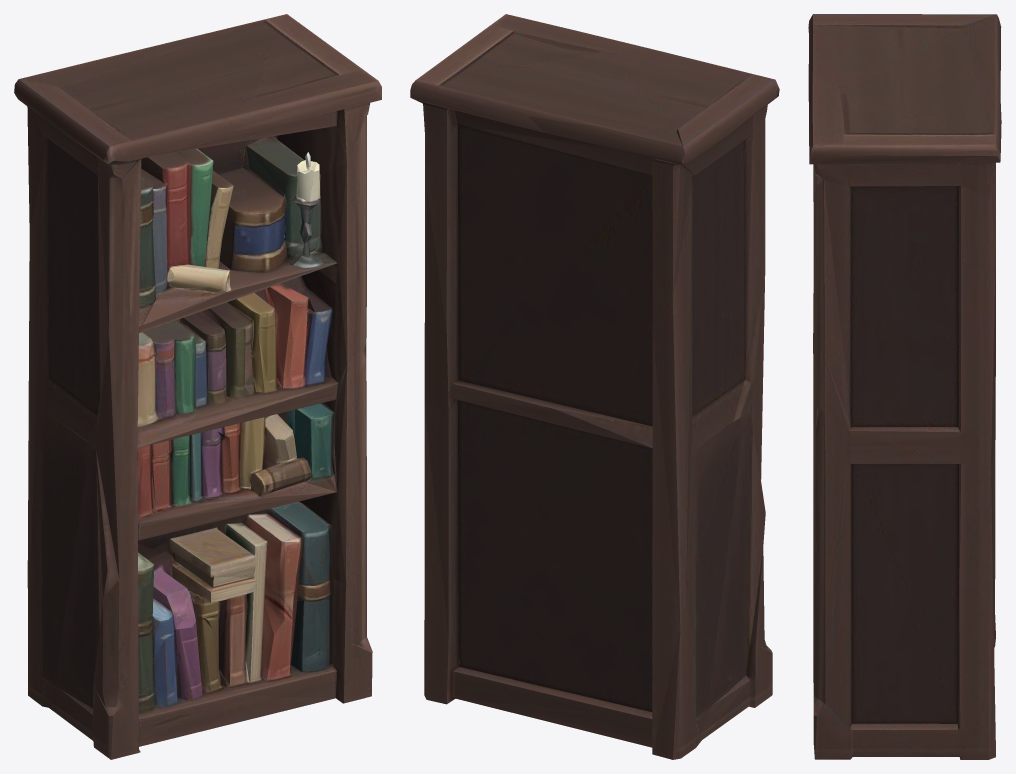
Rendered from bookshelf.glb.
3 views of the same model, side by side, from view 1: azimuth 30°, elevation 25°; view 2: azimuth 150°, elevation 25°; view 3: azimuth 270°, elevation 25° (orthographic).
Visible parts, largest first — view 1: bookshelf; view 2: bookshelf; view 3: bookshelf.
Part boxes in pixels (x1,y1,x2,y2): bookshelf: (14, 14, 381, 759); bookshelf: (410, 14, 779, 759); bookshelf: (808, 14, 1001, 759).
Size of the model in its own units: 1.08 by 2.3 by 0.6516.
1 material, 1 textured.
